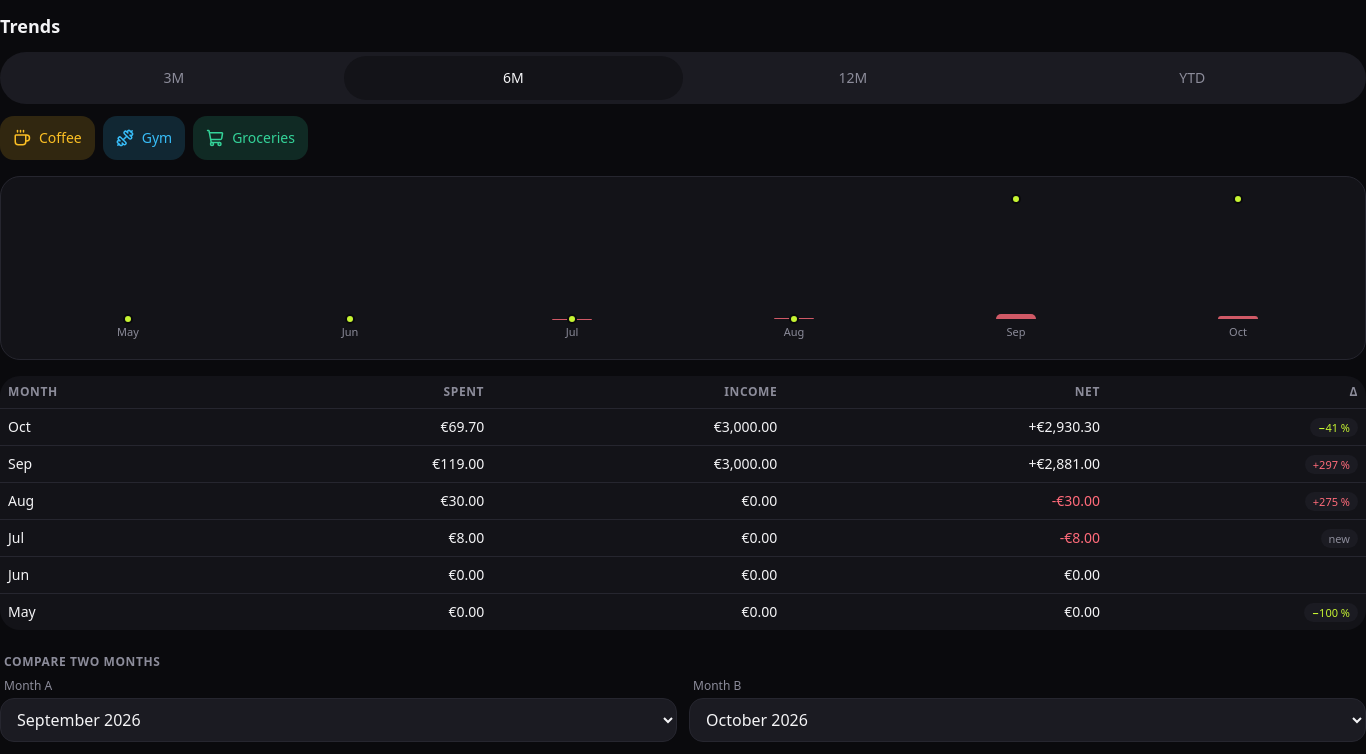
Test: TrendsPage › leaves income out of the chart and reads "—" for income and net while a filter is on
Check: the number of elements with test id "dot" is 6, box [125, 316, 131, 322]; [347, 316, 353, 322]; [569, 316, 575, 322]; [791, 316, 797, 322]; [1013, 196, 1019, 202]; [1235, 196, 1241, 202]
What coordinates should you click on to do the following:
click the button "Groceries"
I would click on:
 (251, 138)
Its box is [193, 116, 308, 160].
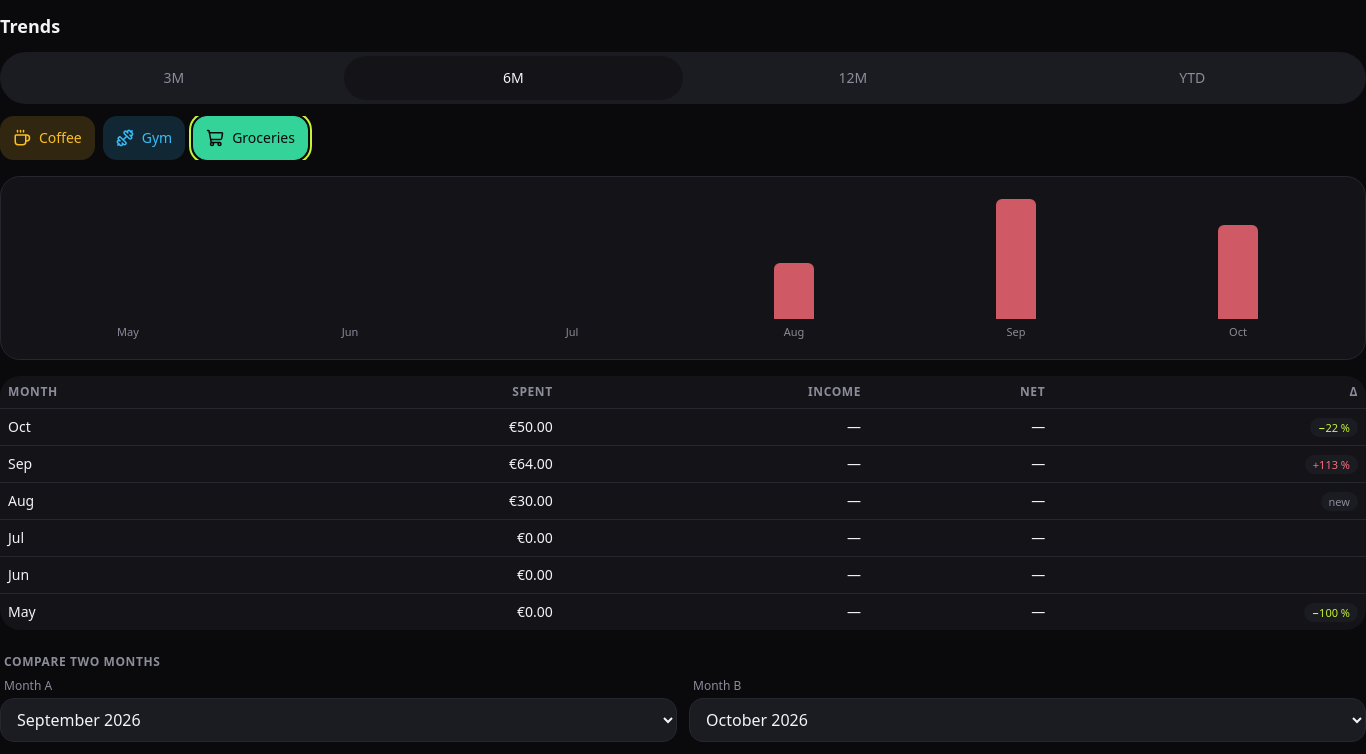
What coordinates should you click on to do the following:
click the button "Sep"
I would click on:
 (1016, 268)
Its box is [905, 193, 1127, 343].
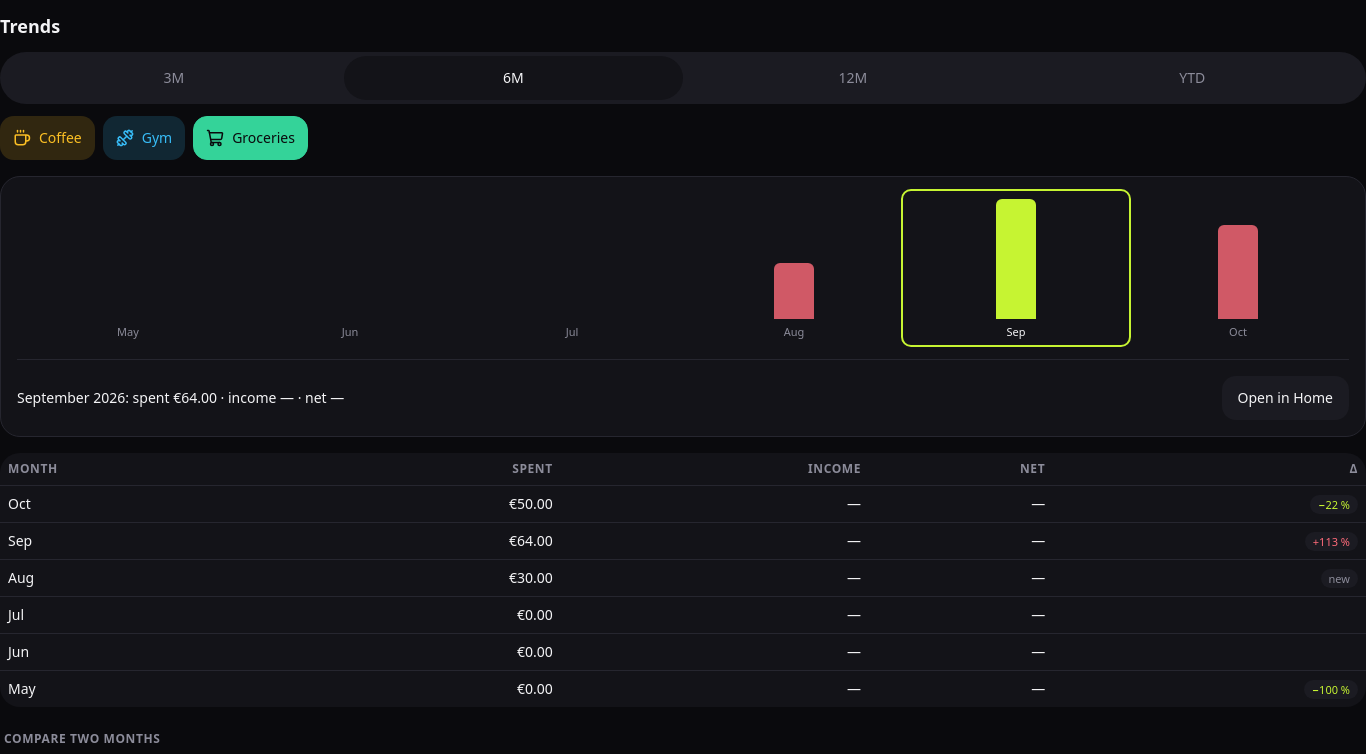
Check: the text "September 2026: spent €64.00 · income — · net —" is shown, box [17, 388, 344, 408]
